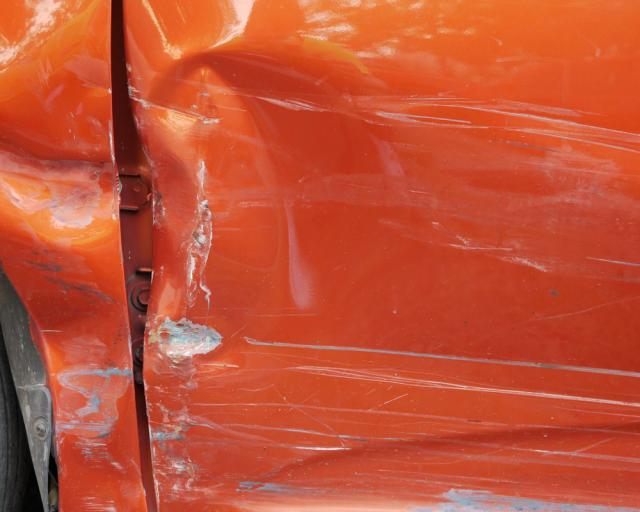dent: (144, 42, 389, 361), (0, 62, 122, 250), (26, 288, 124, 435)
scratch: (146, 332, 640, 512), (363, 95, 640, 294), (59, 433, 145, 512)
